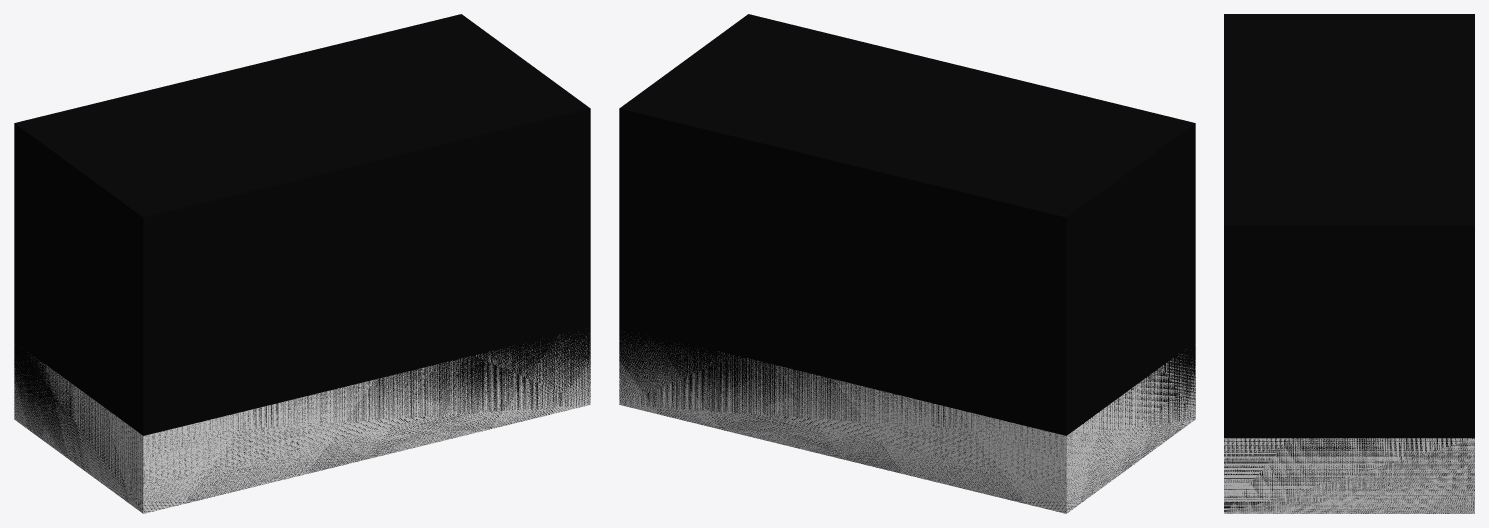
The model's file is oakStarterTable.glb.
3 views of the same model, side by side, from view 1: azimuth 30°, elevation 25°; view 2: azimuth 150°, elevation 25°; view 3: azimuth 270°, elevation 25° (orthographic). The views are drawn at different scales.
Visible parts, largest first — view 1: mesh (×2); view 2: mesh (×2); view 3: mesh (×2).
Part boxes in pixels (<box>): mesh (×2): <box>14,14,590,513</box>; mesh (×2): <box>619,14,1195,513</box>; mesh (×2): <box>1224,14,1474,513</box>.
Bounding box in the file's own units: 6 × 3.8 × 3.
2 materials, 1 textured.
